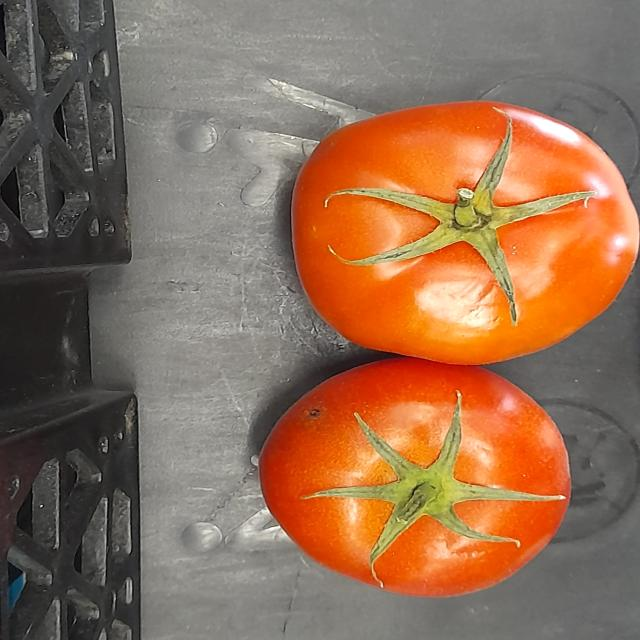tomato: (273, 71, 640, 366), (240, 349, 599, 606)
